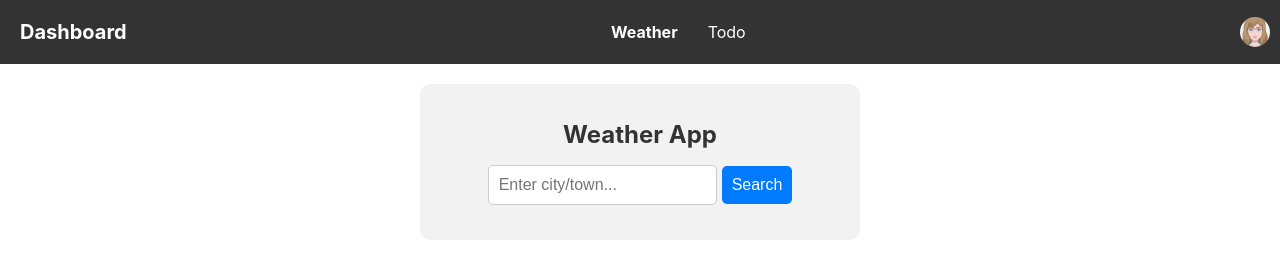
Test: UserProfile Component › switches to Todo page on Todo link click
The width and height of the screenshot is (1280, 257).
Click the link "Todo".
click(727, 32)  # box [708,22,746,42]
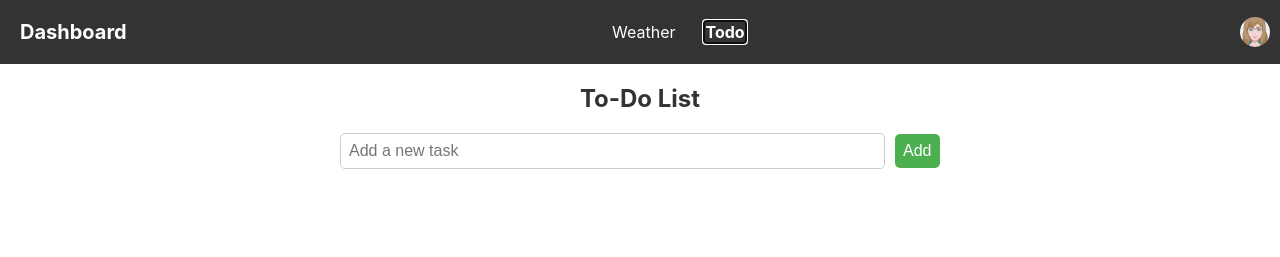
Now the heading "To-Do List" is shown, box [580,84,700,113]
